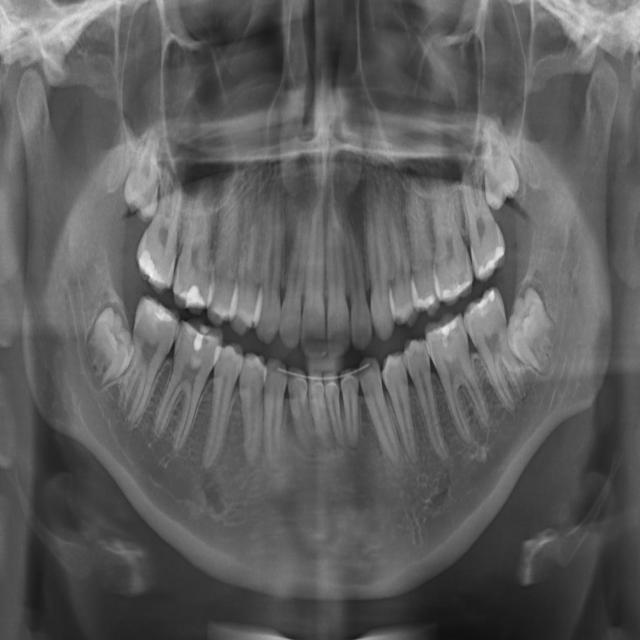CompositeResinRestoration: (133, 221, 163, 287), (475, 216, 505, 282), (136, 297, 182, 332), (180, 256, 205, 315), (471, 280, 503, 326), (433, 307, 464, 352), (190, 322, 206, 358)
DentalCaries: (198, 328, 215, 361)
